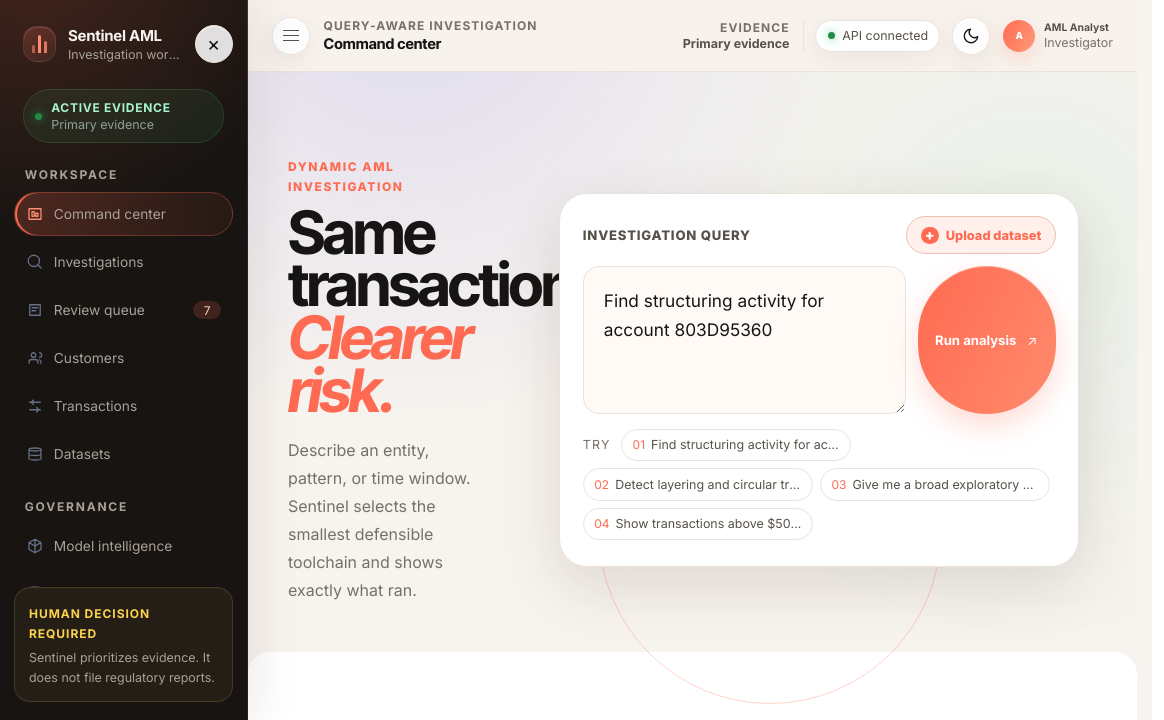
Test: workspace navigation controls › collapses the desktop sidebar with the cross and restores it with the menu button
Click the button named "Close navigation" at (214,44), box [195,25,233,63]
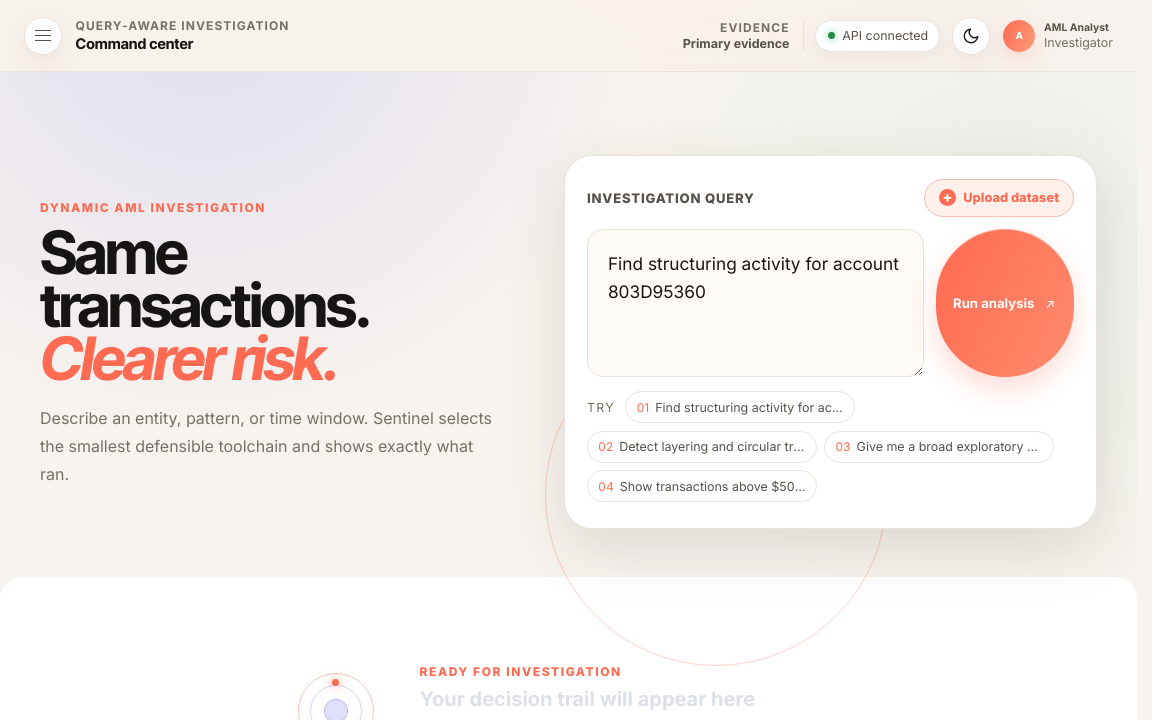
Expected: the button named "Open workspace navigation" is collapsed
Click the button named "Open workspace navigation" at (43,36), box [24,16,62,54]
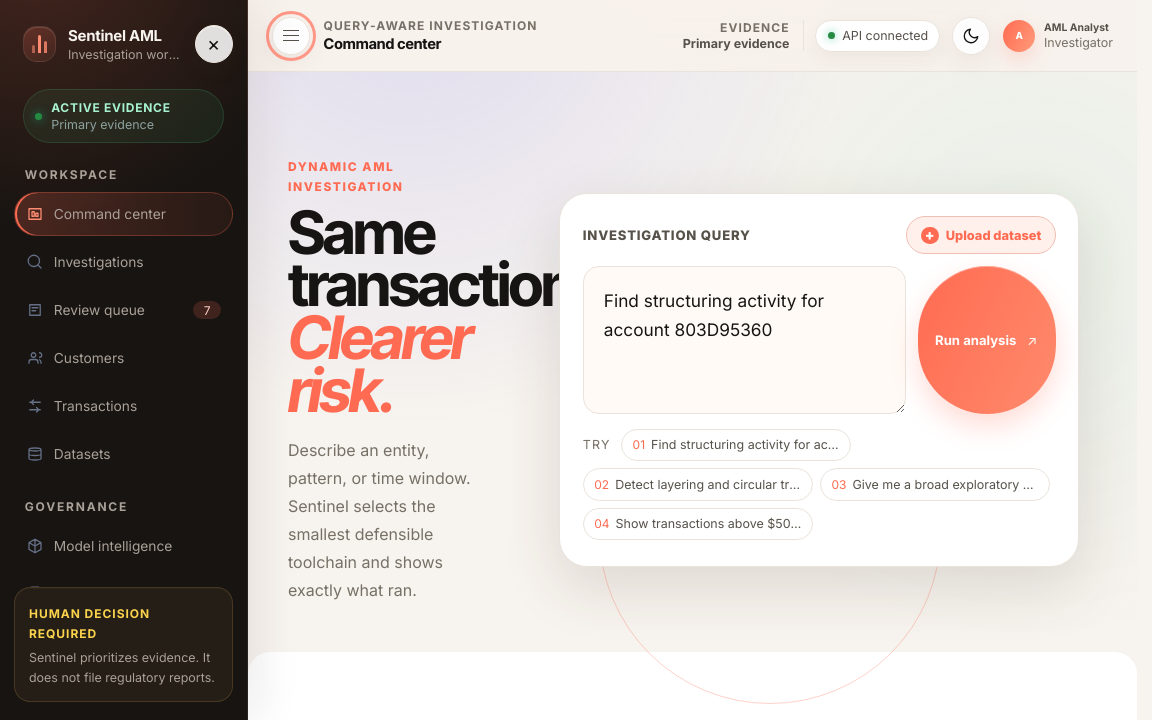
Expected: the button named "Close workspace navigation" is expanded, [272,16,310,54]
